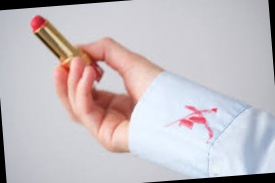lipstick: (174, 101, 223, 140), (158, 112, 208, 135), (180, 112, 208, 131)
